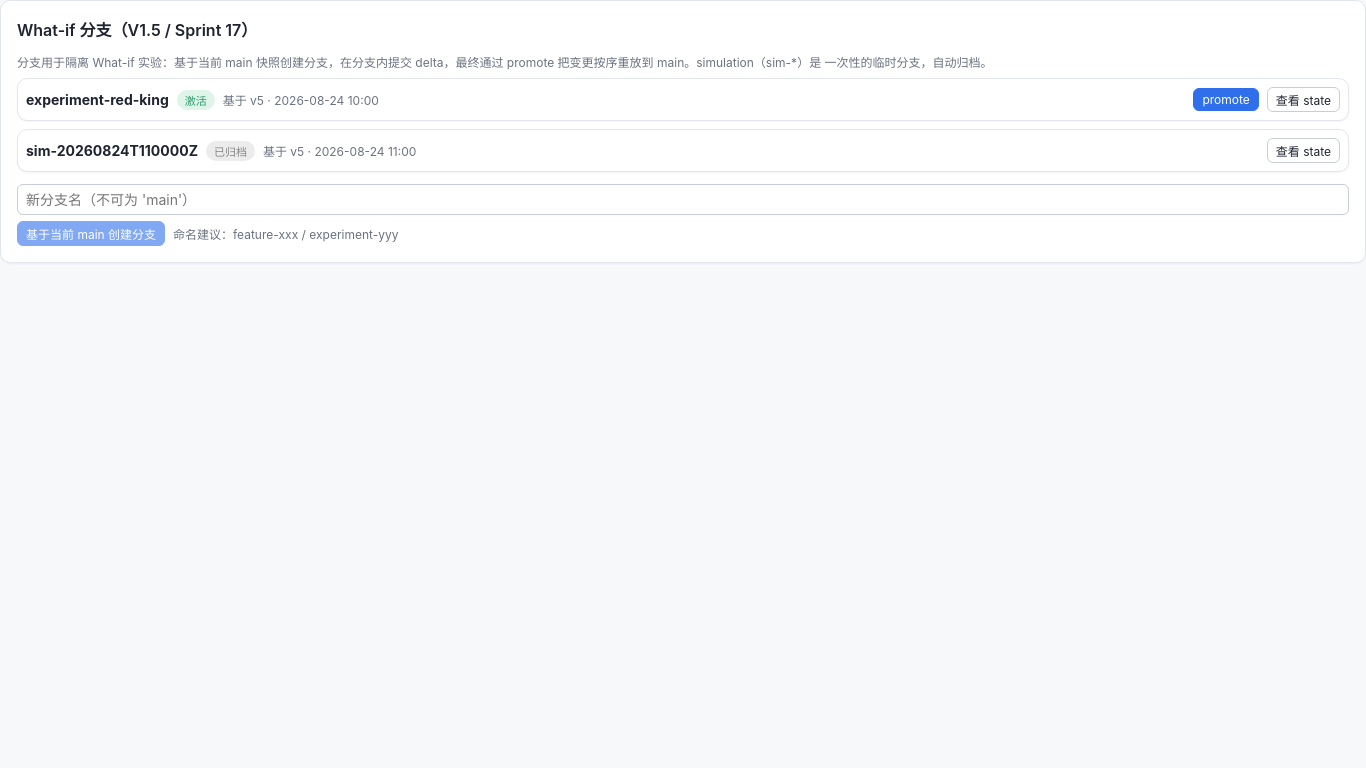
BranchesPanel (V1.5 / Sprint 17) › promote 409 approval_required ⇒ 弹确认框列出高风险 id；确认后带 author_approval 重发
Click the button with test id "branches-promote-br_exp1" at (1226, 100), box [1193,88,1259,111]
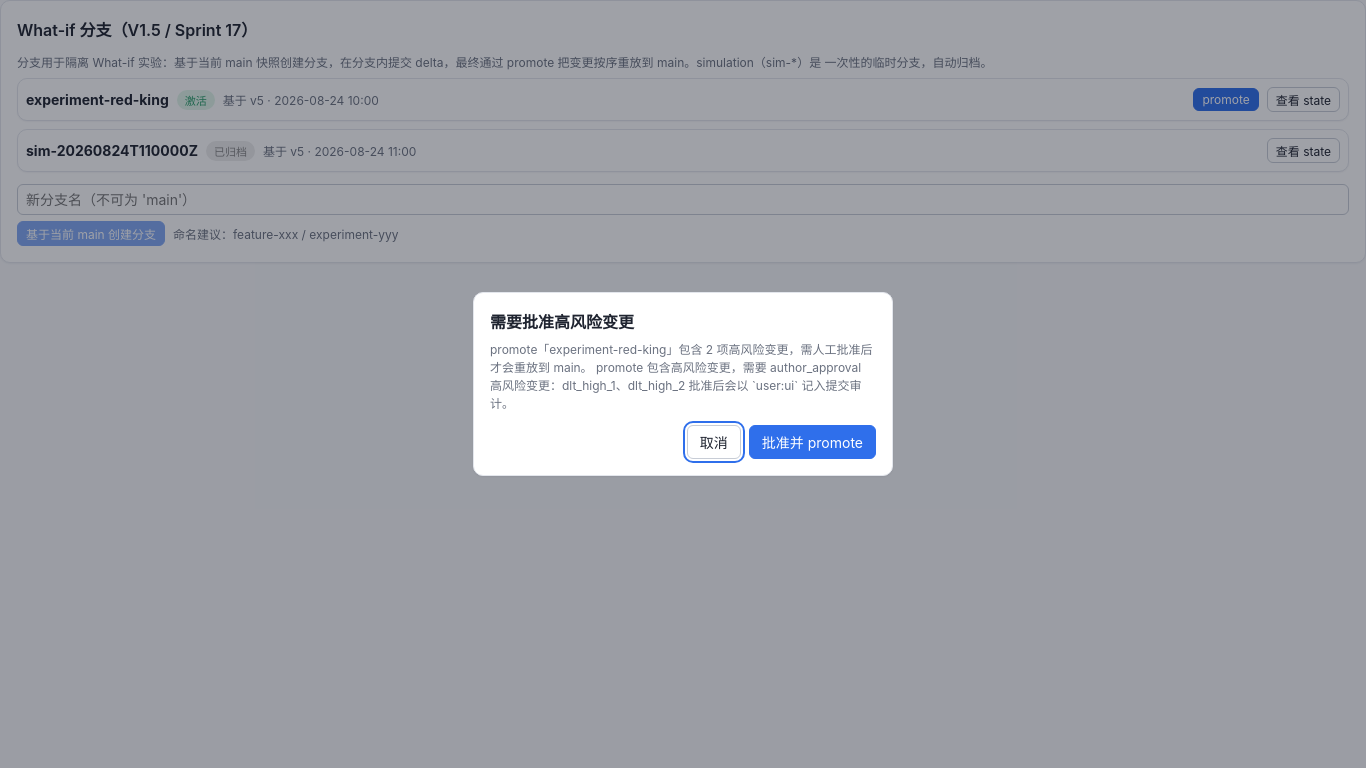
Check: the dialog with test id "branches-approval-confirm" shows "dlt_high_1", box [490,342,872,411]
Check: the dialog with test id "branches-approval-confirm" shows "dlt_high_2", box [490,342,872,411]
Click the button with test id "branches-approval-confirm-confirm" at (812, 442), box [749,425,876,459]
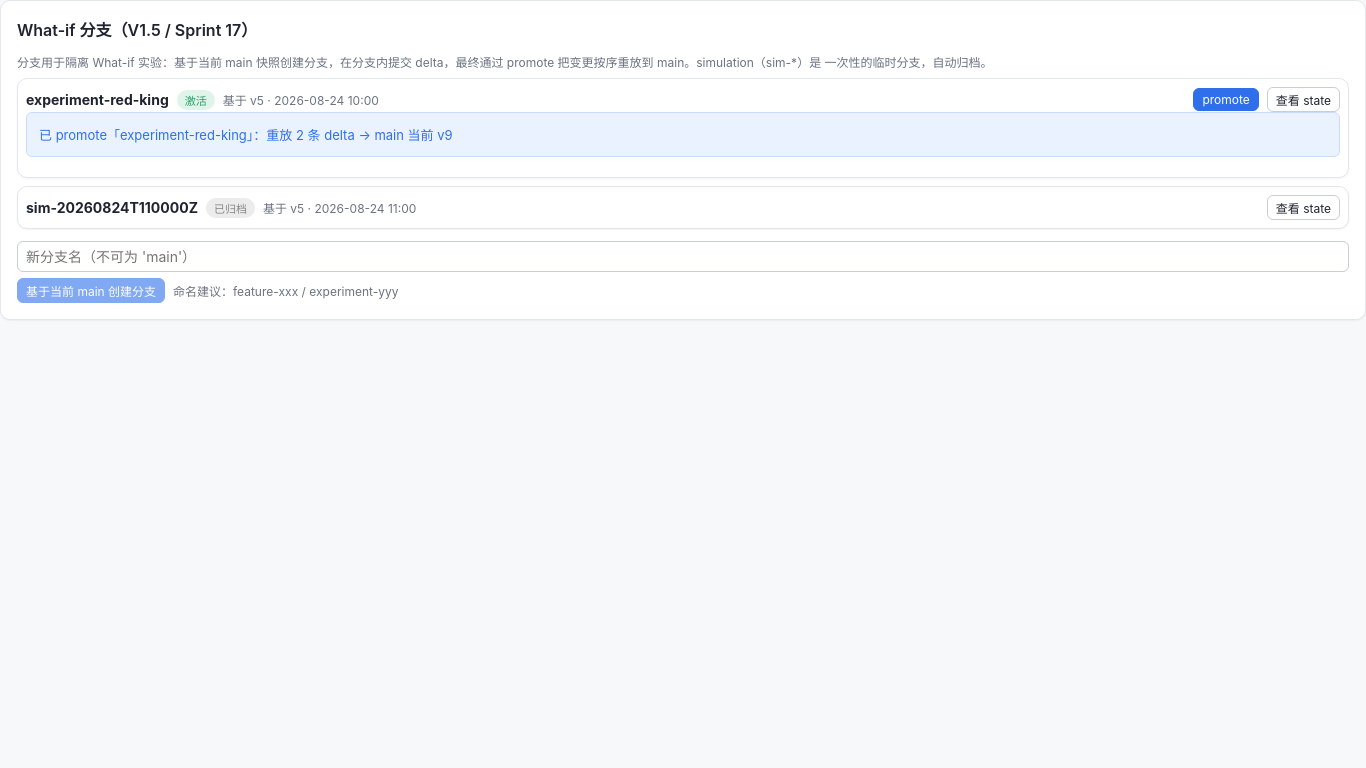
Check: the text with test id "branches-promote-result-br_exp1" shows "已 promote", box [39,127,453,143]
